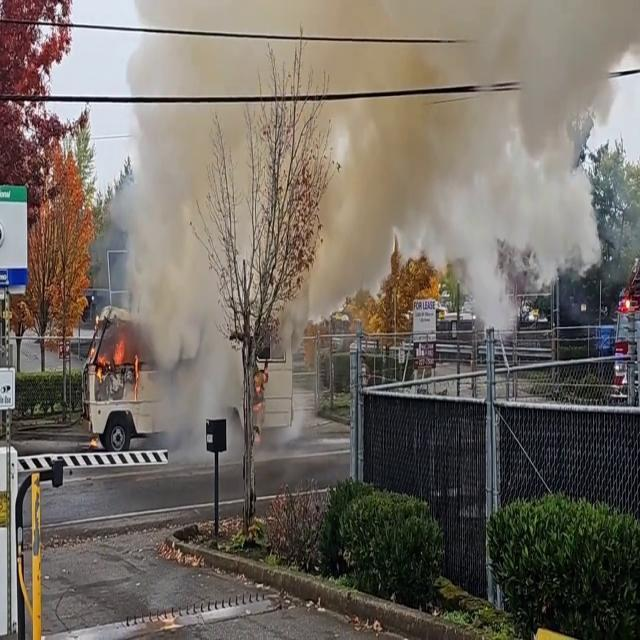Fire: (97, 326, 130, 381)
Smoke: (142, 0, 640, 411), (416, 4, 640, 318)
